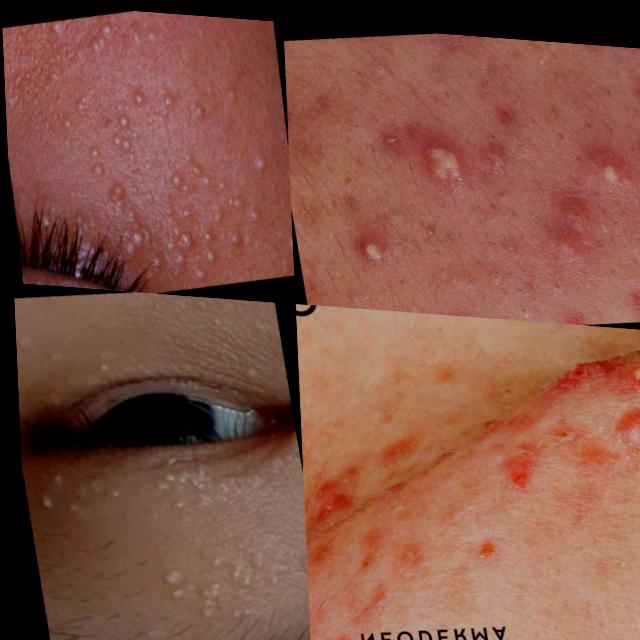7: (133, 527, 294, 628), (11, 312, 154, 390), (125, 445, 269, 518), (24, 457, 144, 529), (99, 179, 158, 282), (164, 214, 216, 281), (82, 13, 120, 64), (78, 136, 110, 190), (64, 79, 98, 129), (106, 104, 133, 161), (101, 169, 132, 216), (212, 168, 242, 215), (159, 161, 190, 204), (186, 150, 211, 192), (185, 89, 210, 125), (125, 18, 149, 53), (126, 78, 151, 111), (157, 77, 180, 110), (223, 218, 244, 254), (173, 193, 196, 223), (44, 17, 69, 44), (247, 143, 267, 176), (241, 194, 261, 225), (32, 202, 51, 234), (158, 195, 176, 226), (58, 107, 75, 134)
9: (353, 204, 391, 270), (614, 333, 640, 379), (592, 141, 615, 175)
blackheads: (417, 122, 464, 184), (608, 388, 640, 476), (495, 434, 544, 484), (304, 615, 368, 640)
dark spot: (483, 253, 502, 278), (524, 277, 539, 302), (586, 266, 601, 284)
